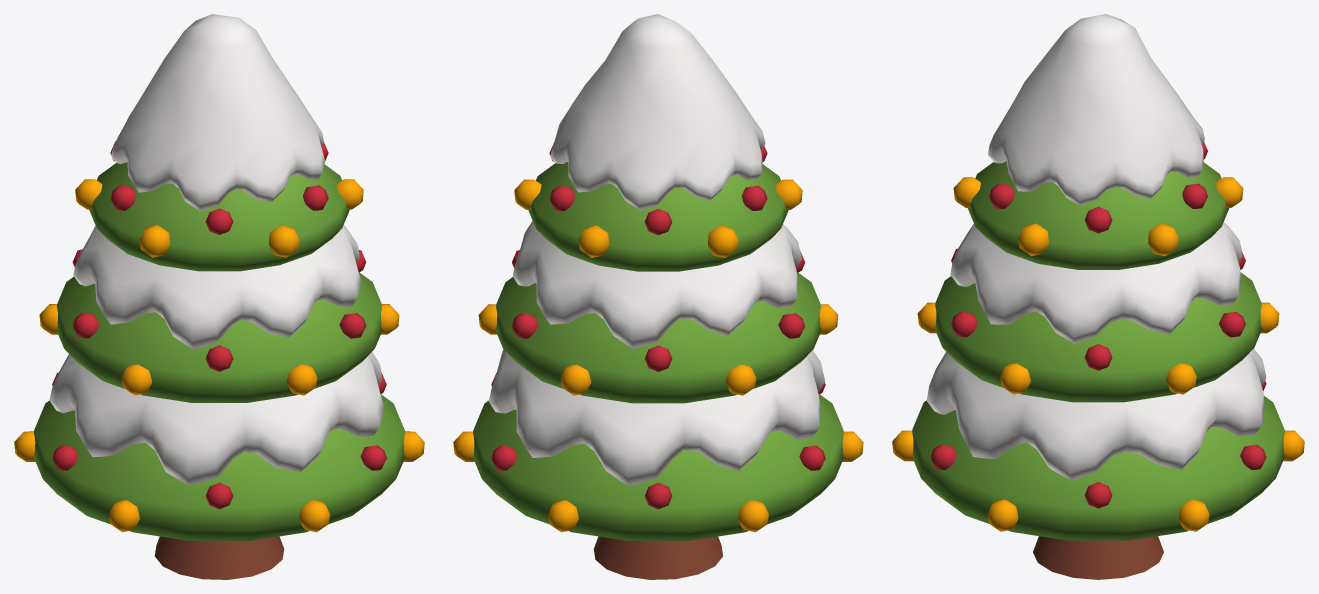
The model's file is Christmass_tree_outdoor_001.fbx.
3 views of the same model, side by side, from view 1: azimuth 30°, elevation 25°; view 2: azimuth 150°, elevation 25°; view 3: azimuth 270°, elevation 25° (orthographic).
Visible parts, largest first — view 1: Christmass_tree_outdoor_001, Christmass_tree_outdoor_001_toys; view 2: Christmass_tree_outdoor_001, Christmass_tree_outdoor_001_toys; view 3: Christmass_tree_outdoor_001, Christmass_tree_outdoor_001_toys.
Boxes of the visible parts, x1,y1,x2,y2 form: Christmass_tree_outdoor_001: (34,14,404,579); Christmass_tree_outdoor_001_toys: (14,141,424,532); Christmass_tree_outdoor_001: (473,14,843,579); Christmass_tree_outdoor_001_toys: (453,143,863,532); Christmass_tree_outdoor_001: (912,14,1284,579); Christmass_tree_outdoor_001_toys: (892,142,1304,531).
Bounding box in the file's own units: 2.66 × 4.11 × 2.86.
